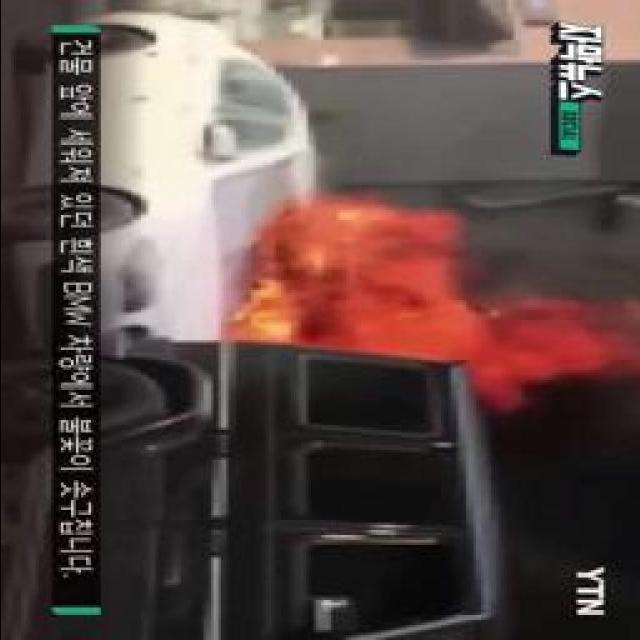Fire: (248, 218, 572, 404)
